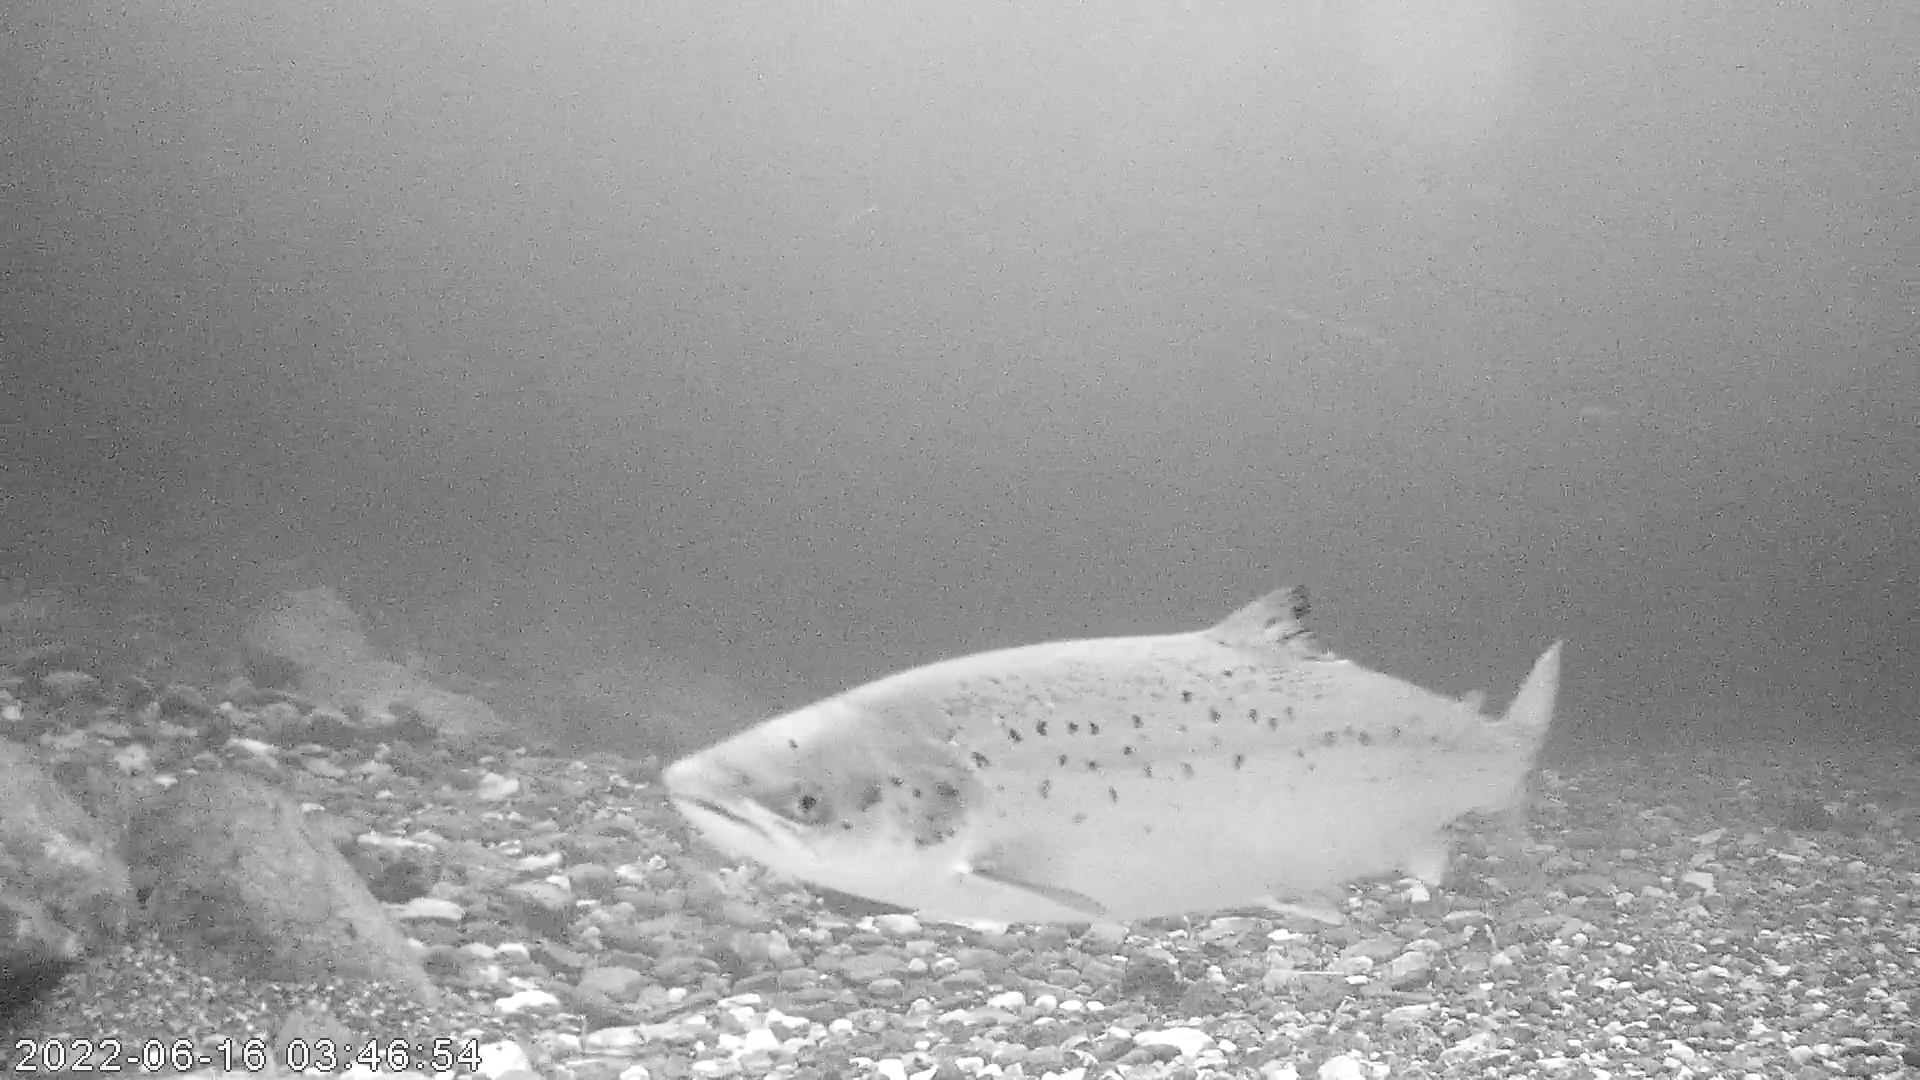salmon: (663, 578, 1565, 932)
